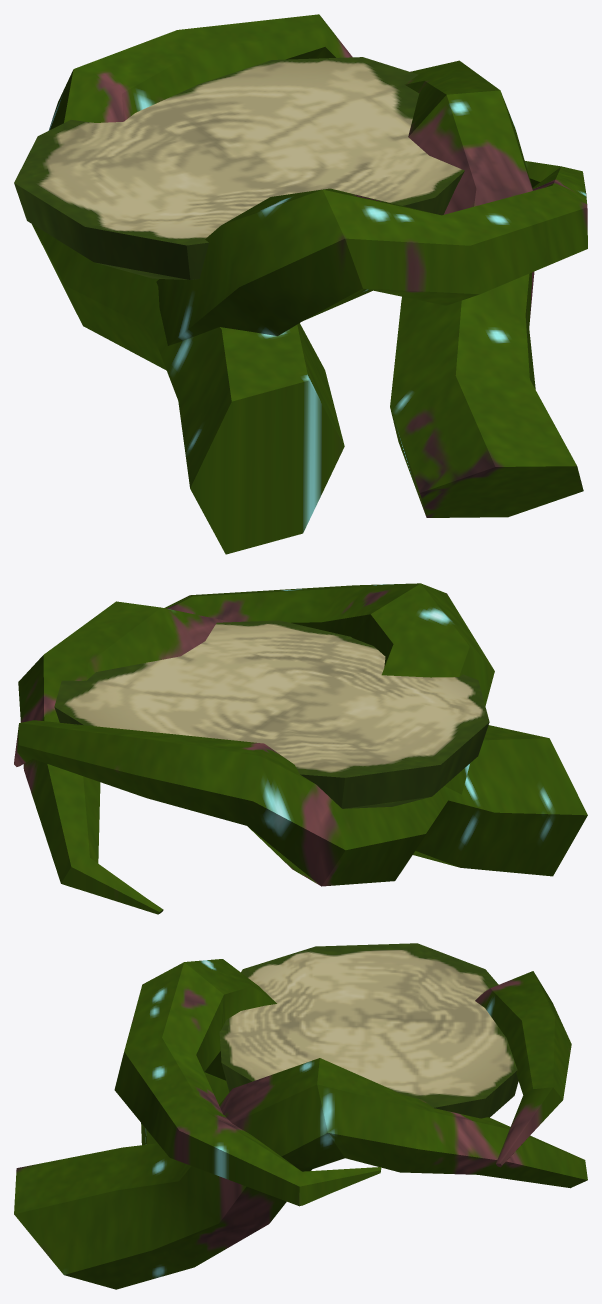
Rendered from platform02.fbx.
3 views of the same model, one above another, from view 1: azimuth 30°, elevation 25°; view 2: azimuth 150°, elevation 25°; view 3: azimuth 270°, elevation 25° (orthographic). The views are drawn at different scales.
Visible parts, largest first — view 1: Platform02; view 2: Platform02; view 3: Platform02.
Part boxes in pixels (x1=…): Platform02: x1=14, y1=14, x2=587, y2=554; Platform02: x1=14, y1=583, x2=587, y2=914; Platform02: x1=14, y1=943, x2=587, y2=1289.
Size of the model in its own units: 1832 by 1164 by 2239.
